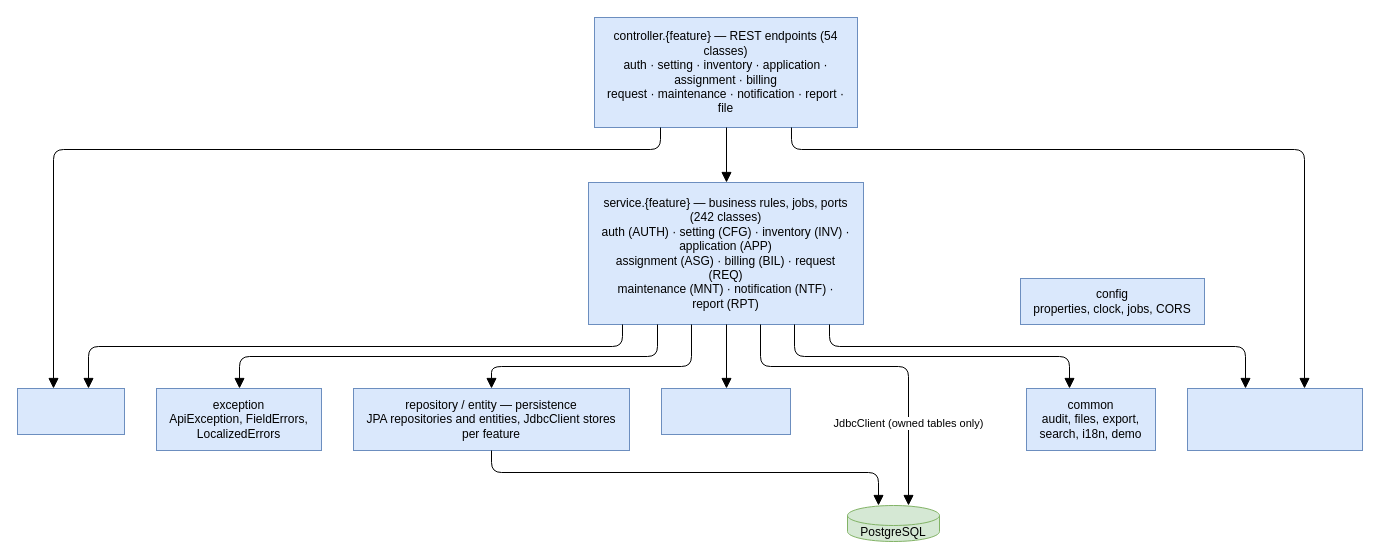
Some shapes in this 1380 by 559 pixel diagram are drawn without their labels. The shapes that lost their labels are listed below. From the top down, each one's centre as x and y in pixels, then its label:
At (x=70, y=411): "dto shared records".
At (x=725, y=411): "event domain events (53)".
At (x=1274, y=419): "security CurrentUser, Permission, BlockScope, SecurityConfig".
